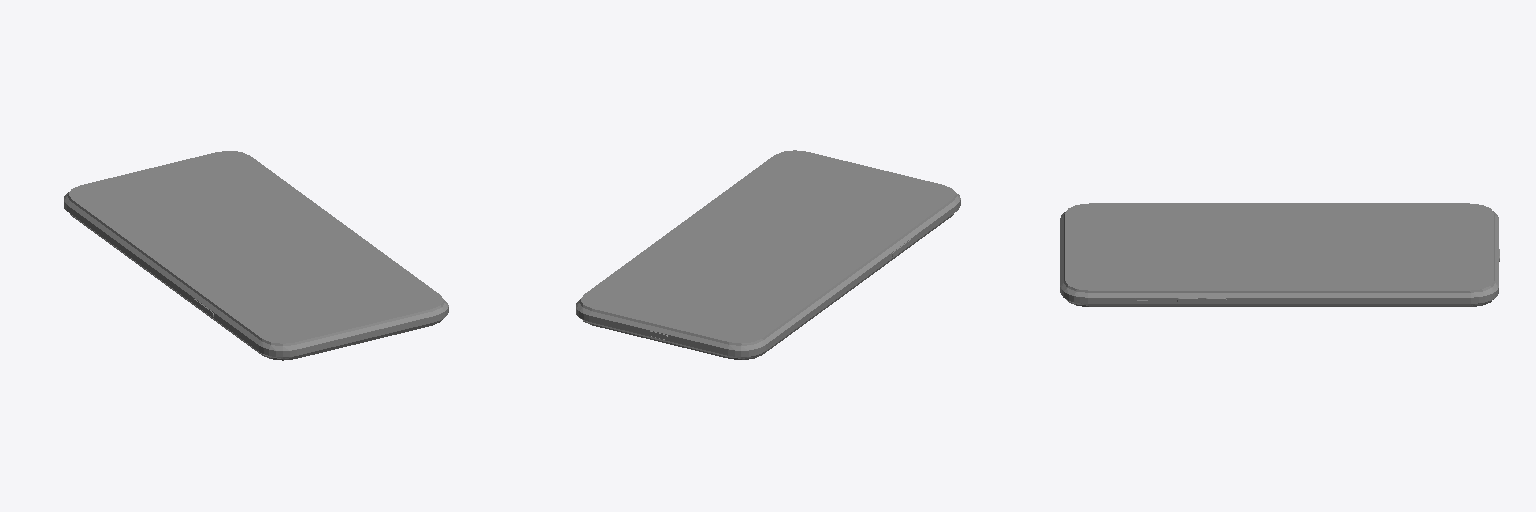
Rendered from YourPhone.obj.
3 views of the same model, side by side, from view 1: azimuth 30°, elevation 25°; view 2: azimuth 150°, elevation 25°; view 3: azimuth 270°, elevation 25° (orthographic).
Parts seen in each view (by area): view 1: Cube_002; view 2: Cube_002; view 3: Cube_002.
Boxes of the visible parts, <box> form: Cube_002: <box>64,151,448,360</box>; Cube_002: <box>576,150,960,359</box>; Cube_002: <box>1060,203,1499,306</box>.
Bounding box in the file's own units: 0.078 × 0.0071 × 0.1581.